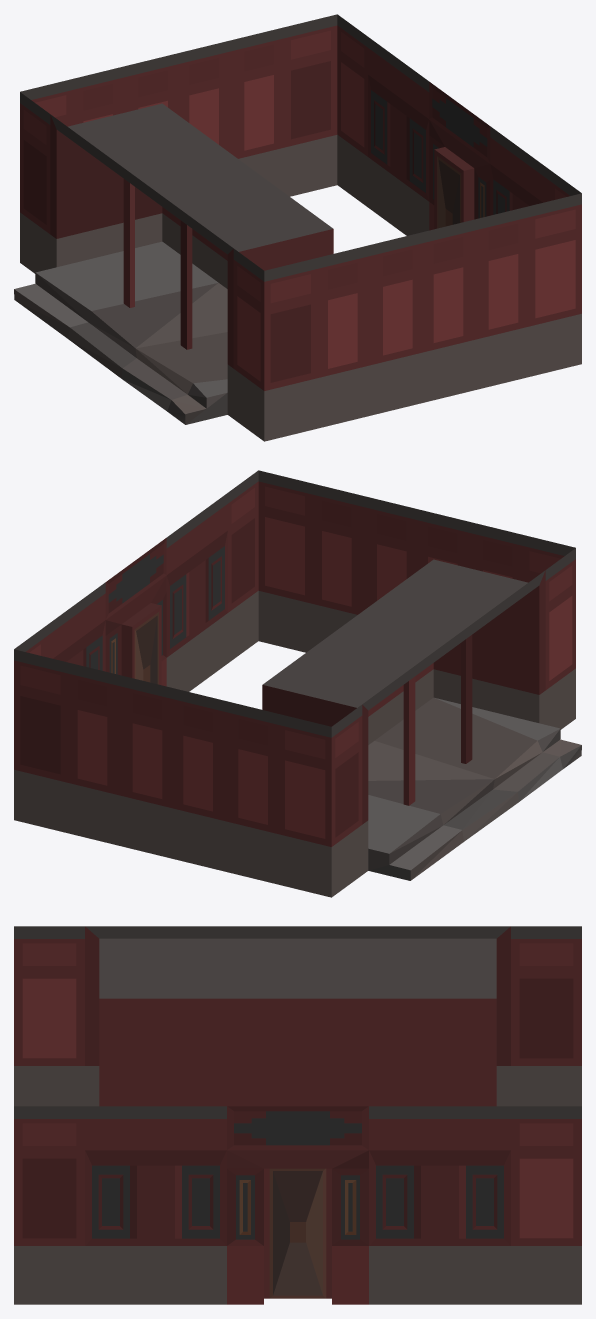
Rendered from BuildingA-Sm_CLOD1.fbx.
The picture shows the model from 3 angles, top to bottom: view 1: azimuth 30°, elevation 25°; view 2: azimuth 150°, elevation 25°; view 3: azimuth 270°, elevation 25°; orthographic projection. The views are drawn at different scales.
Parts seen in each view (by area): view 1: BuildingA-Sm_CLOD1; view 2: BuildingA-Sm_CLOD1; view 3: BuildingA-Sm_CLOD1.
Boxes of the visible parts, left/top/right/bottom form: BuildingA-Sm_CLOD1: left=14, top=14, right=581, bottom=441; BuildingA-Sm_CLOD1: left=14, top=470, right=581, bottom=897; BuildingA-Sm_CLOD1: left=14, top=926, right=581, bottom=1304.
Bounding box in the file's own units: 851 × 386 × 1000.
